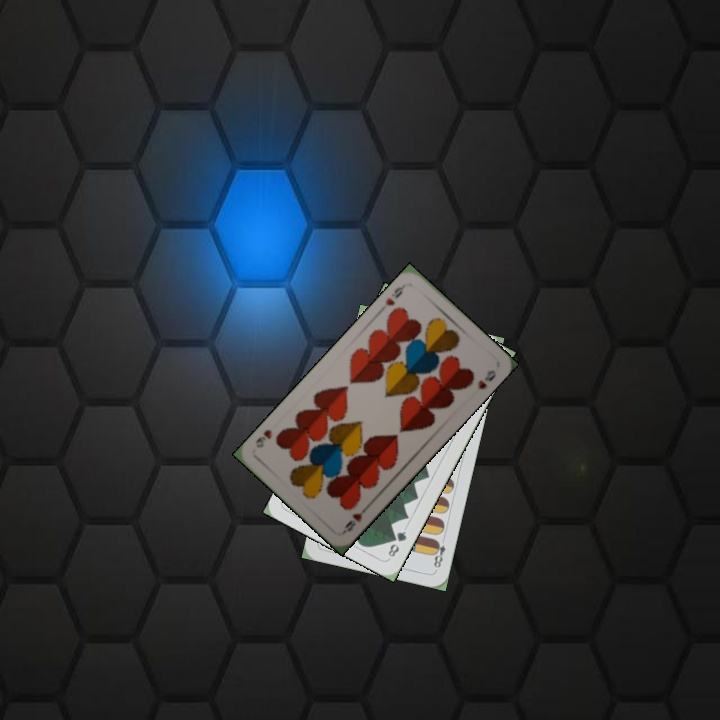E8: (429, 532, 448, 571)
G8: (384, 527, 409, 561)
H9: (339, 502, 371, 535), (377, 280, 408, 313)
